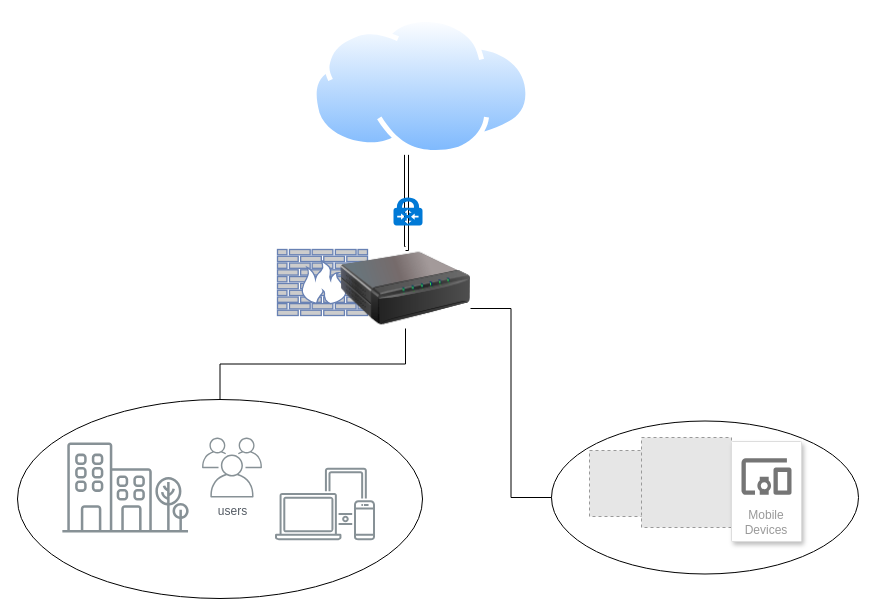
The diagram is 876 pixels wide and 616 high, and some of its shapes have lost their labels. Grey dashed boxes stand in for pictures. The shapes that lost their labels are listed below. From the top down, each one's centre as x and y in pixels, then its label:
At (125,487): "office building".
At (324,503): "devices".
